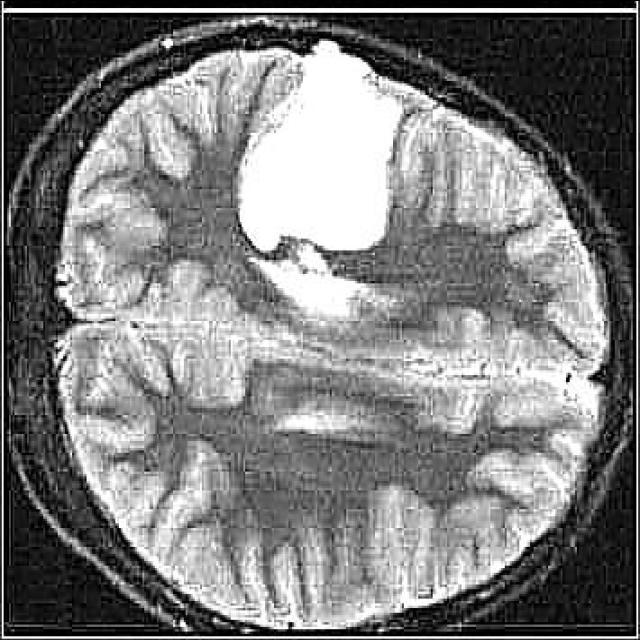tumor: (238, 40, 406, 252)
